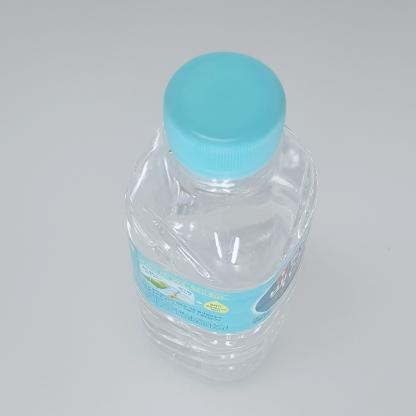-----330ML: (123, 51, 319, 381)
